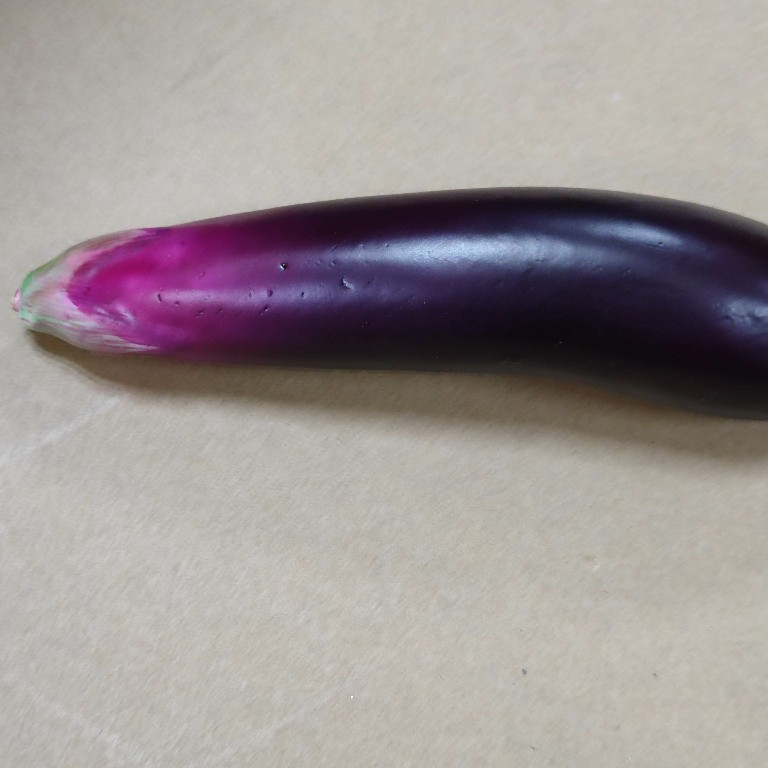fruit_eggplant: (6, 183, 768, 416)
